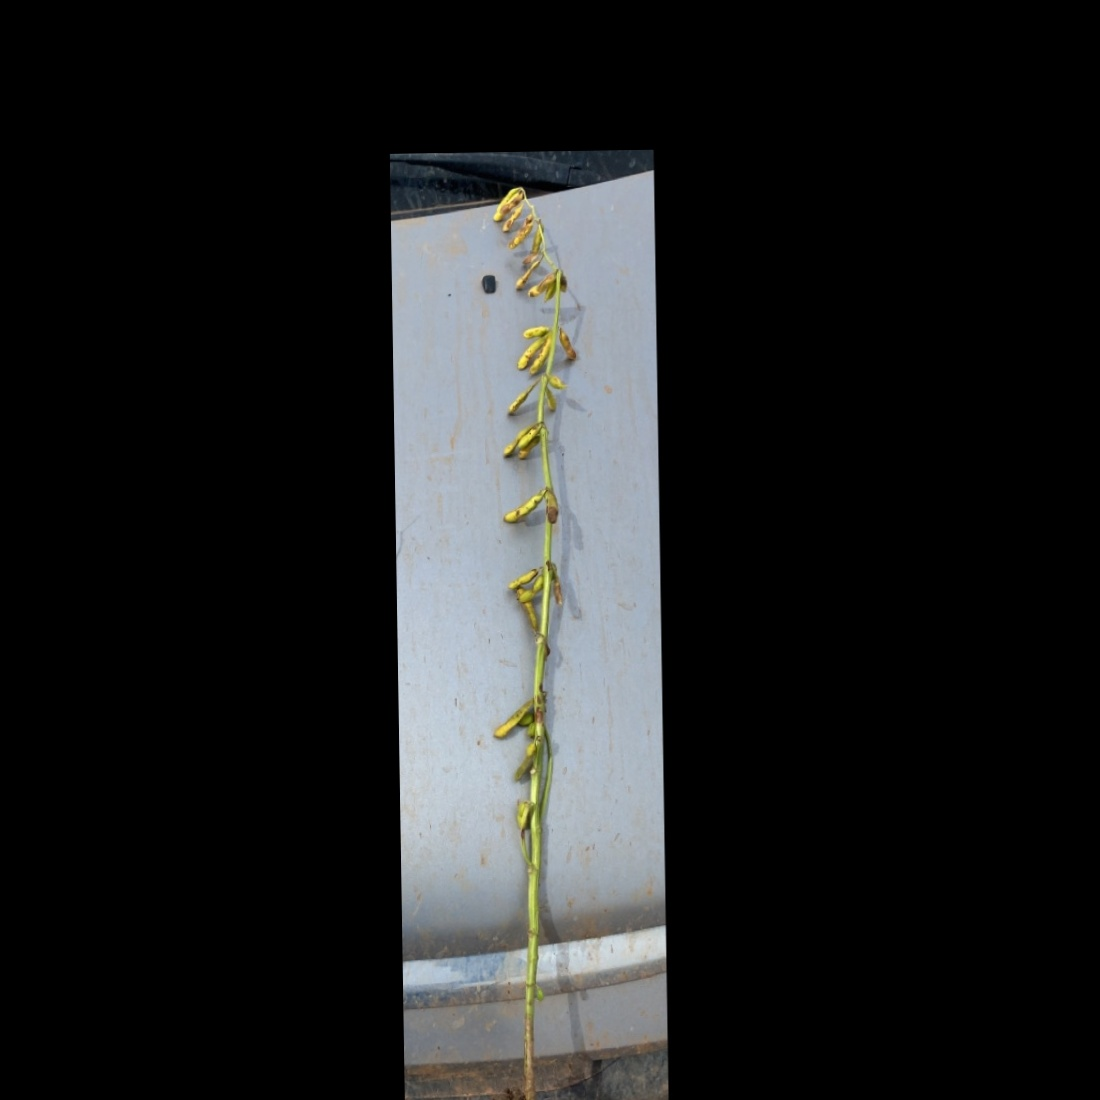pod: (498, 488, 548, 527), (496, 424, 544, 462), (498, 379, 540, 417), (525, 335, 556, 380), (514, 330, 545, 372), (513, 257, 545, 293), (526, 269, 560, 299), (497, 203, 526, 237), (556, 324, 580, 363), (513, 425, 544, 451), (526, 223, 544, 262), (516, 323, 551, 337), (543, 386, 560, 414)
soy: (468, 171, 608, 1100)
